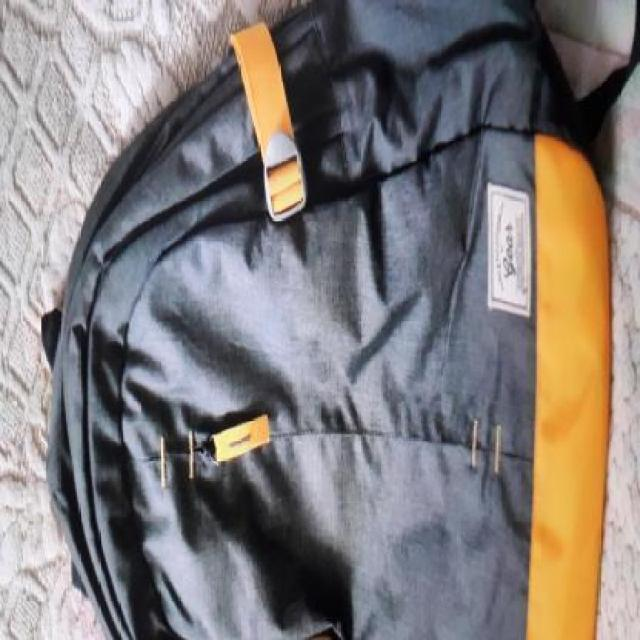backpack: (35, 0, 617, 640)
